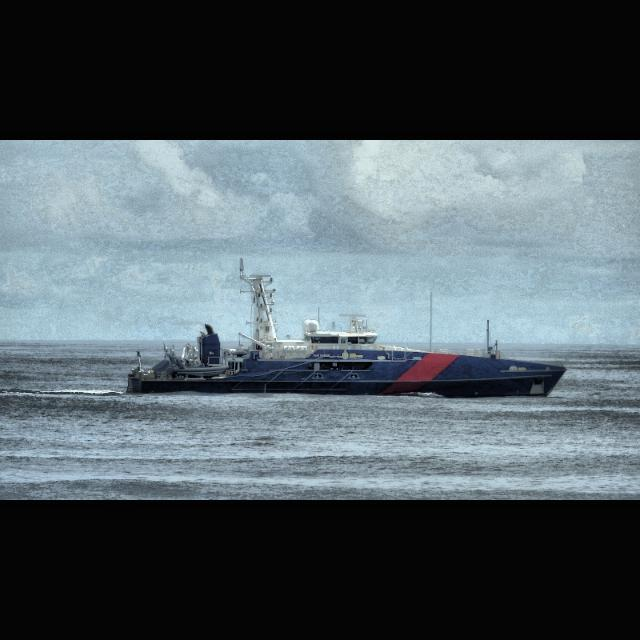patrol_vessel: (126, 258, 568, 398)
